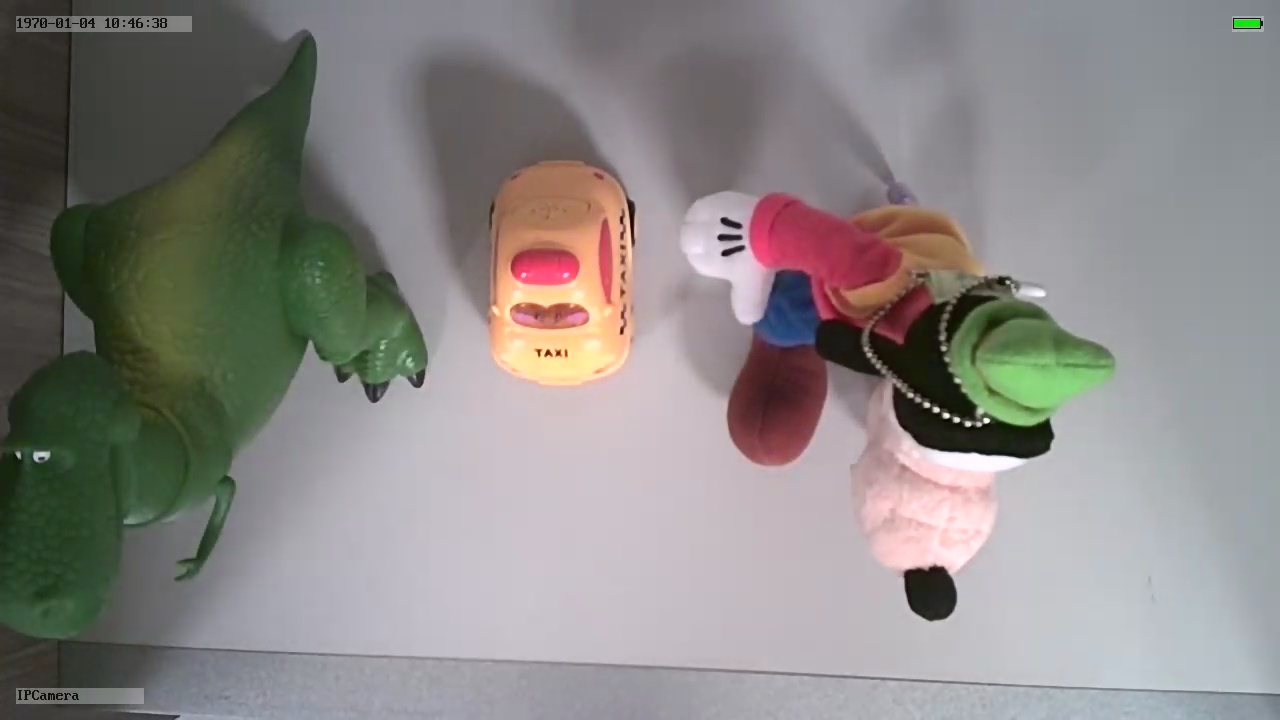car: (481, 152, 645, 389)
goofy: (678, 186, 1119, 626)
rex: (5, 70, 428, 637)
